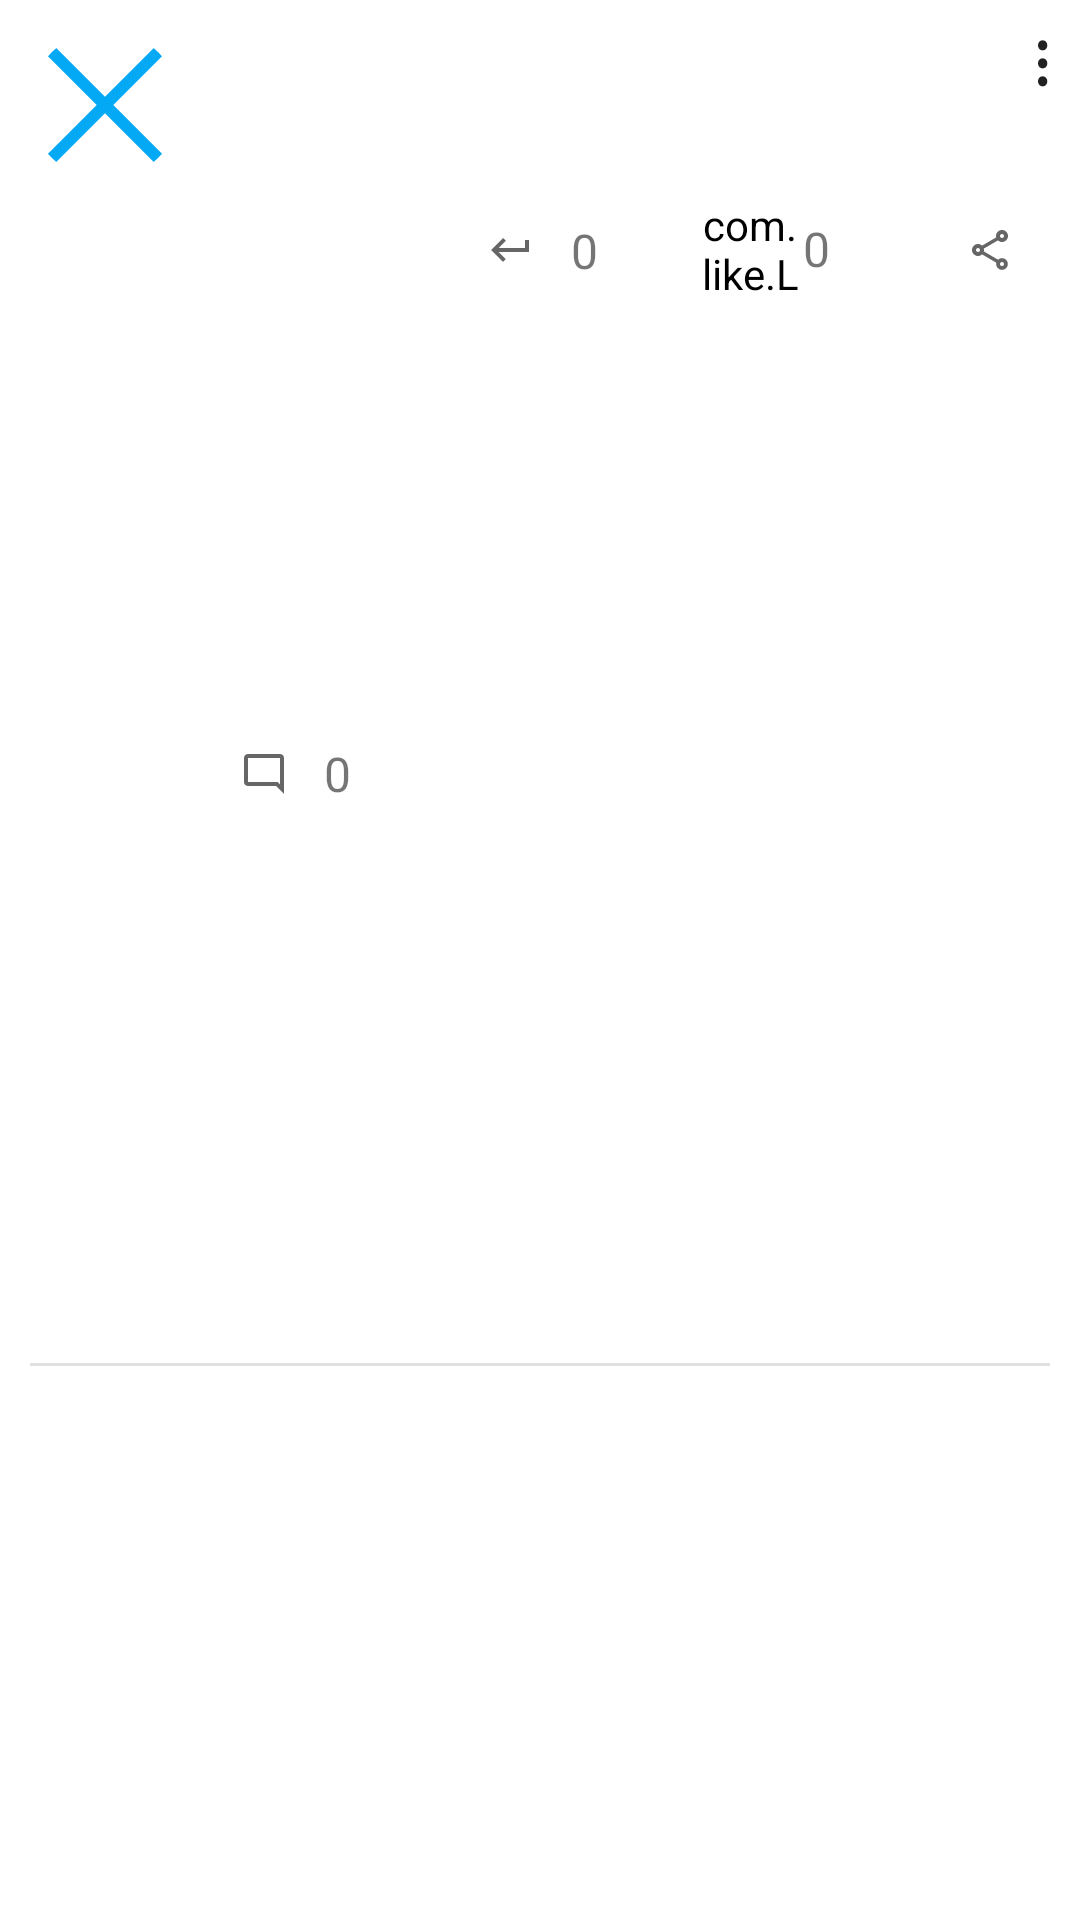

Named icons in this screenshot (1080 x 1920) and their centers, (x,y):
cancel: (105,105)
comment: (264,774)
share: (990,250)
